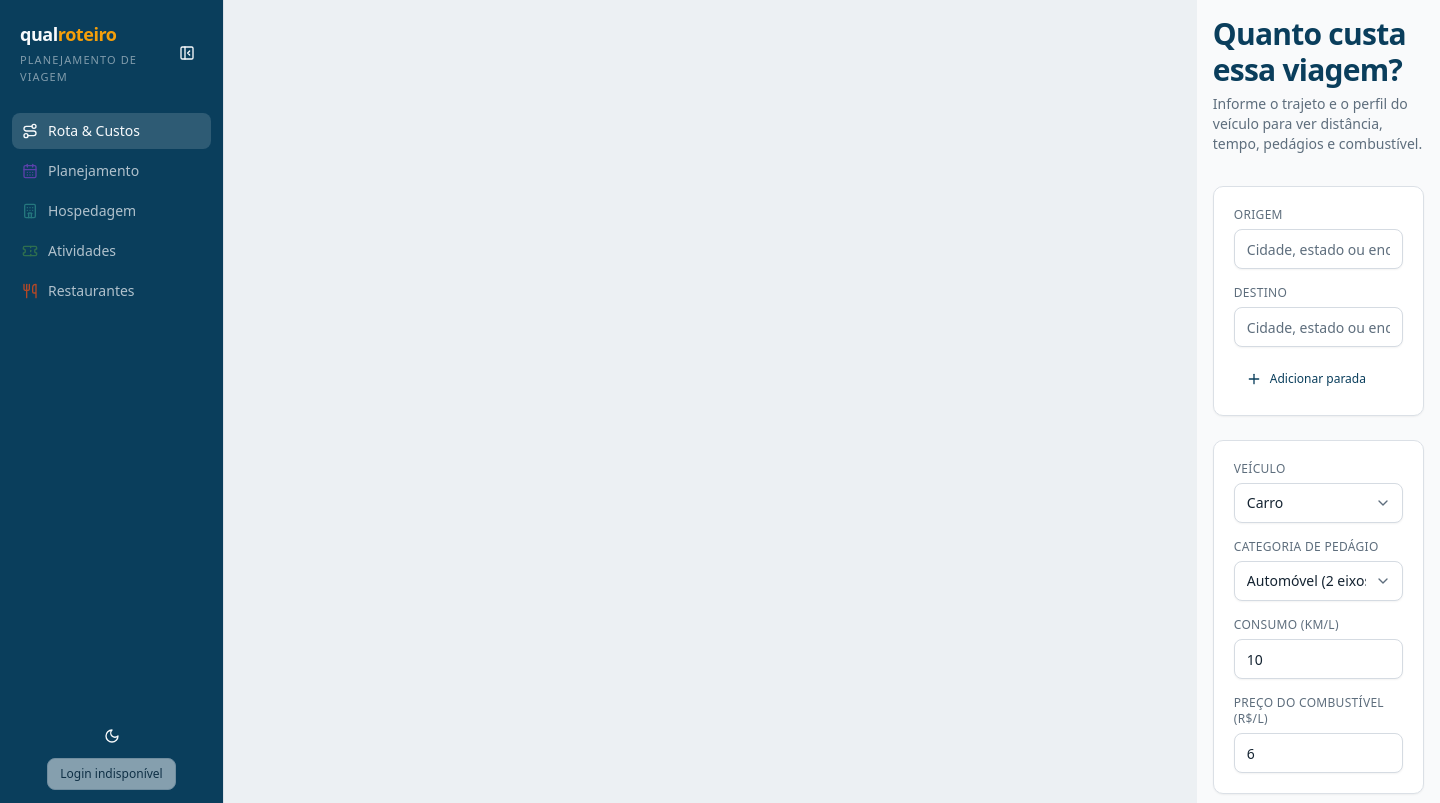
Test: Tela 2 — resultado › shows litres, price and cost on the fuel tab, and the cost is litres × price
Type "São Paulo, SP" into the dropdown labelled "Origem". click: (1318, 249)
box: [1234, 229, 1403, 269]
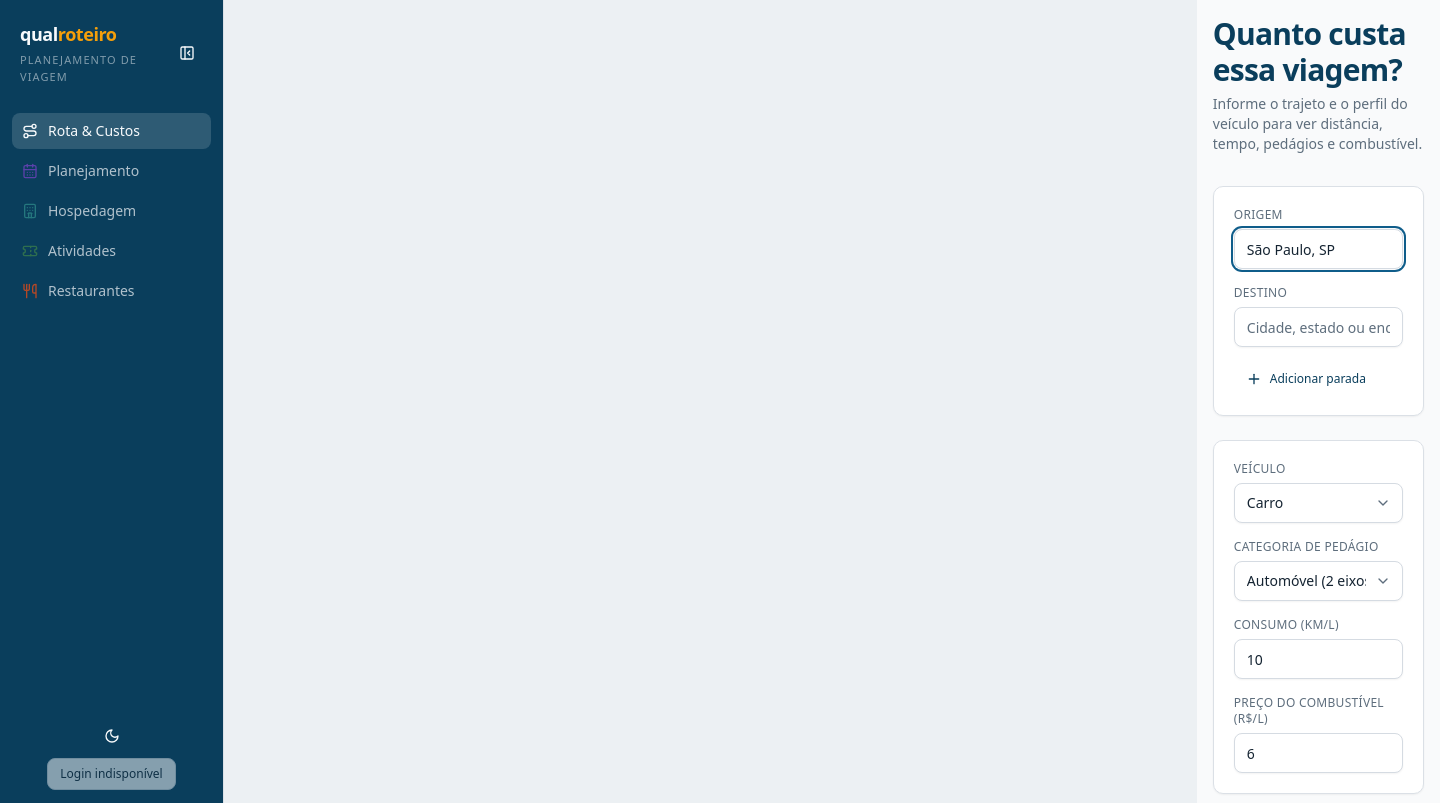
Type "Rio de Janeiro, RJ" into the dropdown labelled "Destino". click: (1318, 327)
box: [1234, 307, 1403, 347]
(page scrolled)
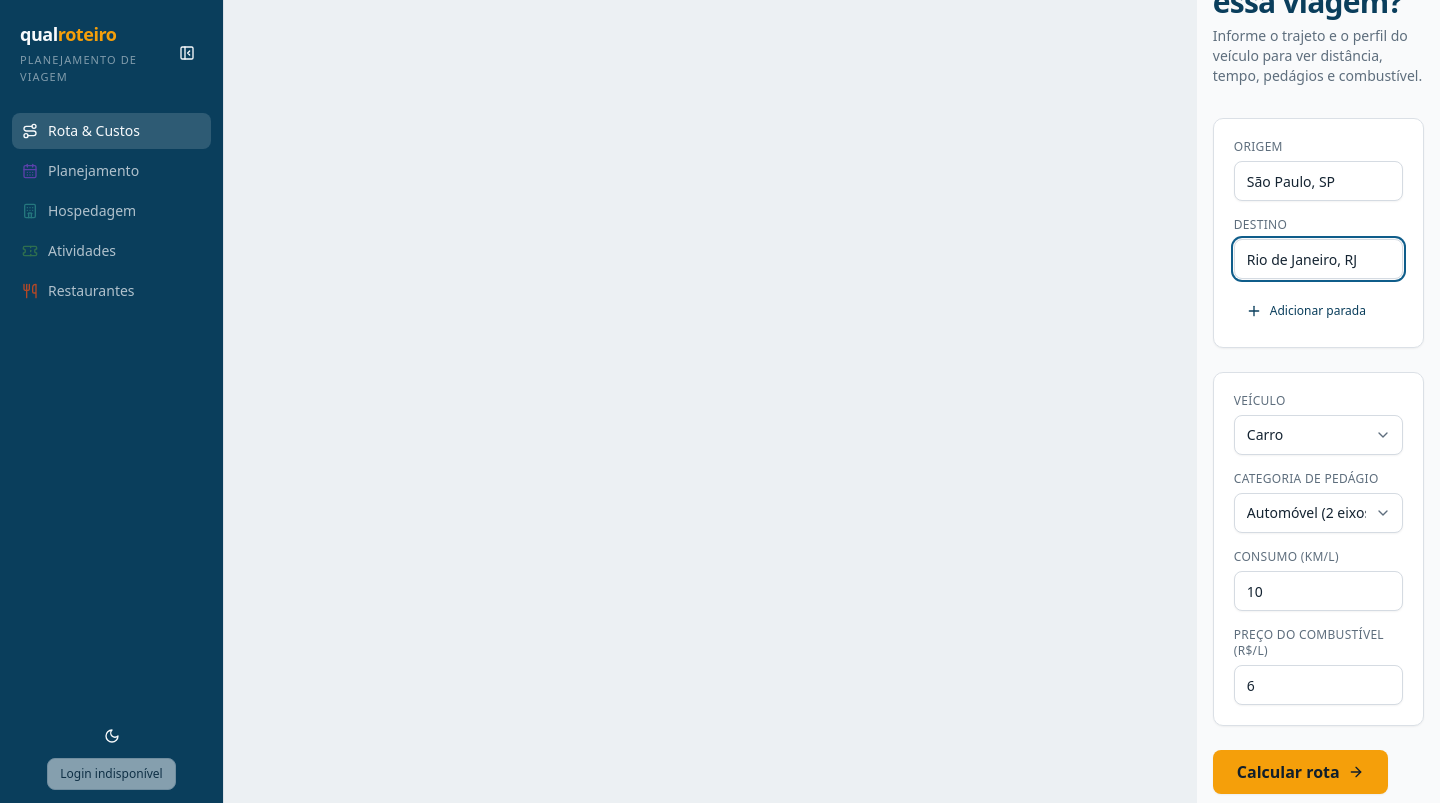
Click the button "Calcular rota". click: (1300, 772)
box: [1213, 750, 1388, 794]
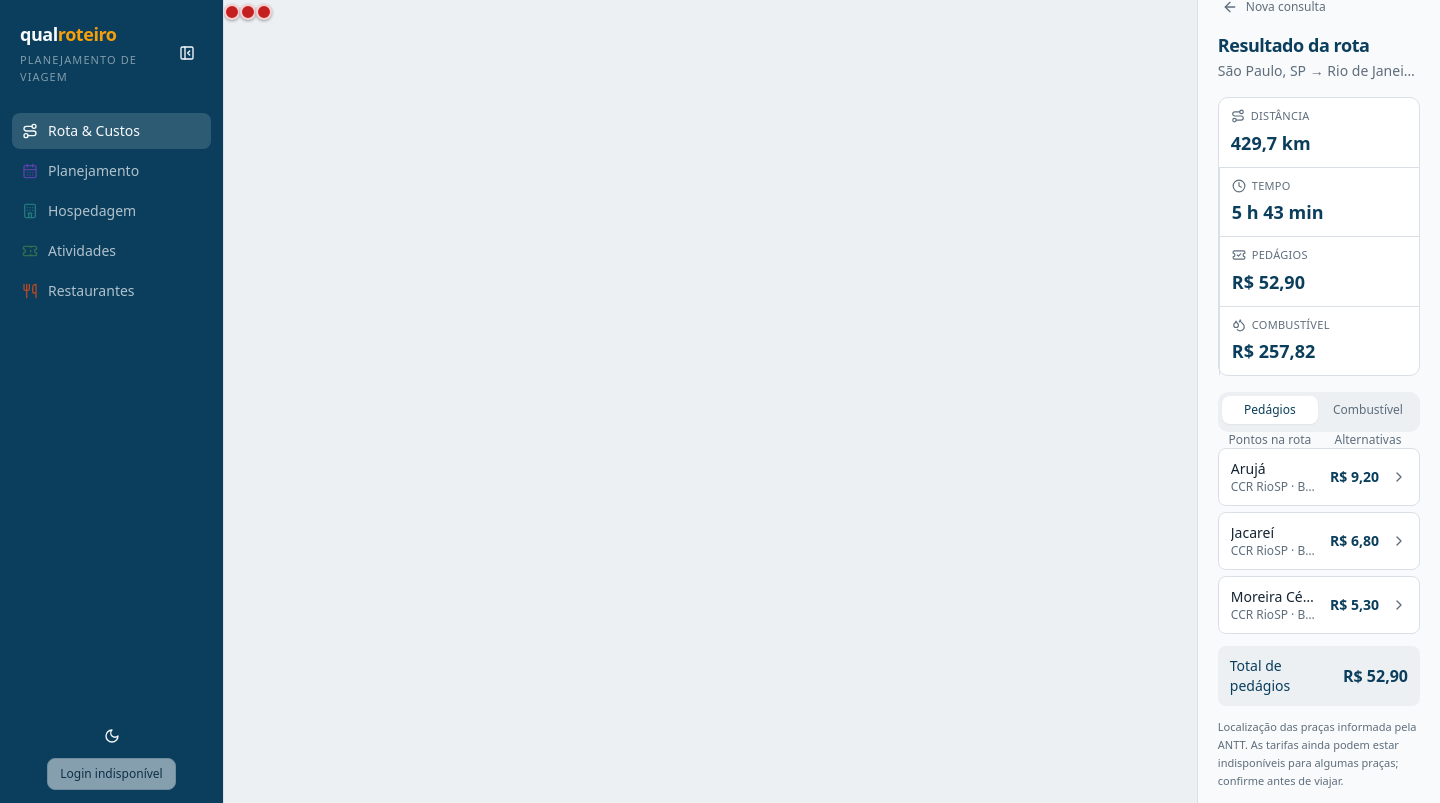
Expected: the heading "Resultado da rota" is shown, [1218, 33, 1369, 57]
Click the tab "Combustível". click: (1368, 410)
box: [1320, 396, 1416, 424]
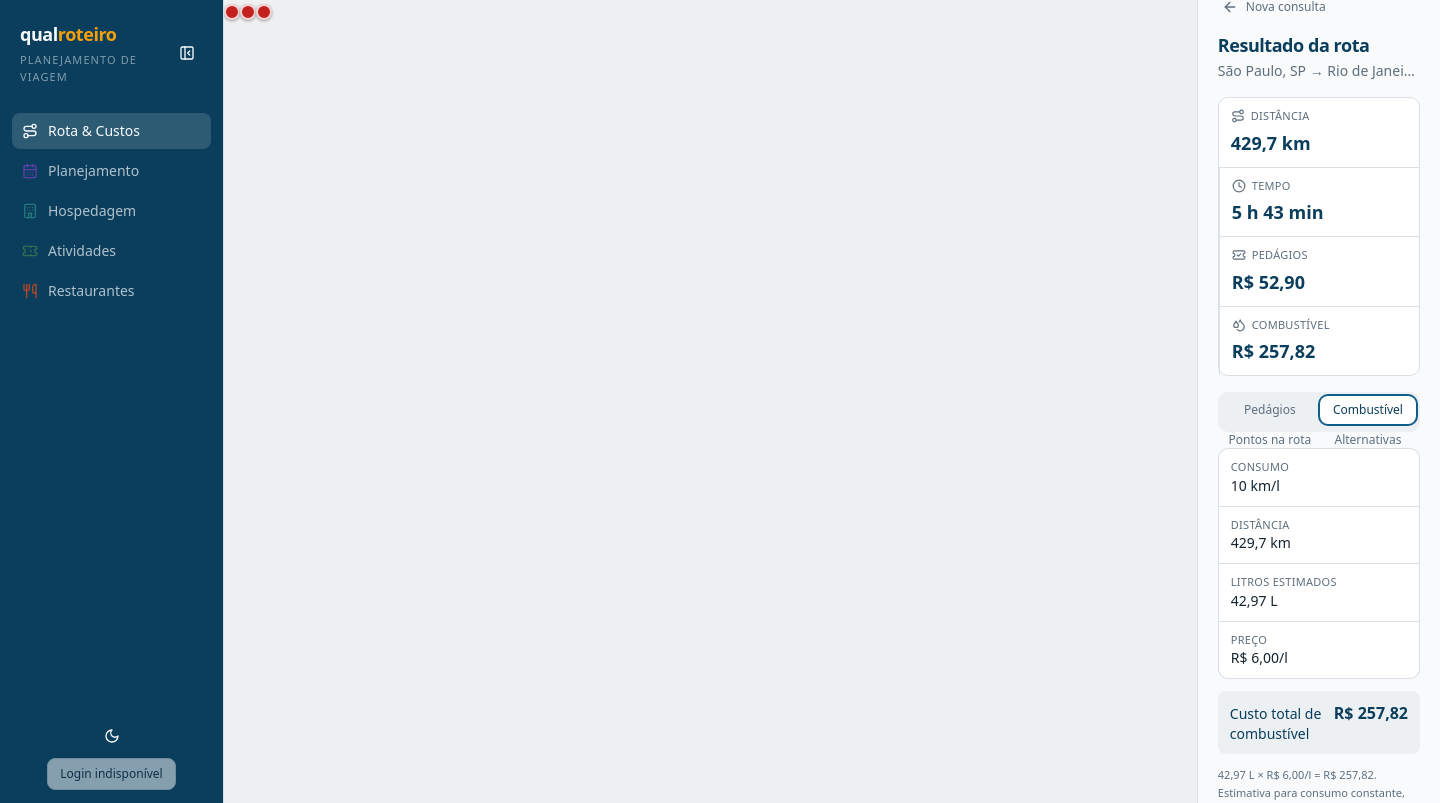
Expected: the text "42,97 L" is shown, [1231, 590, 1278, 610]
Expected: the text with test id "fuel-price" shows "6,00", [1231, 648, 1279, 667]
Expected: the text with test id "fuel-cost" shows "257,82", [1334, 702, 1408, 724]
